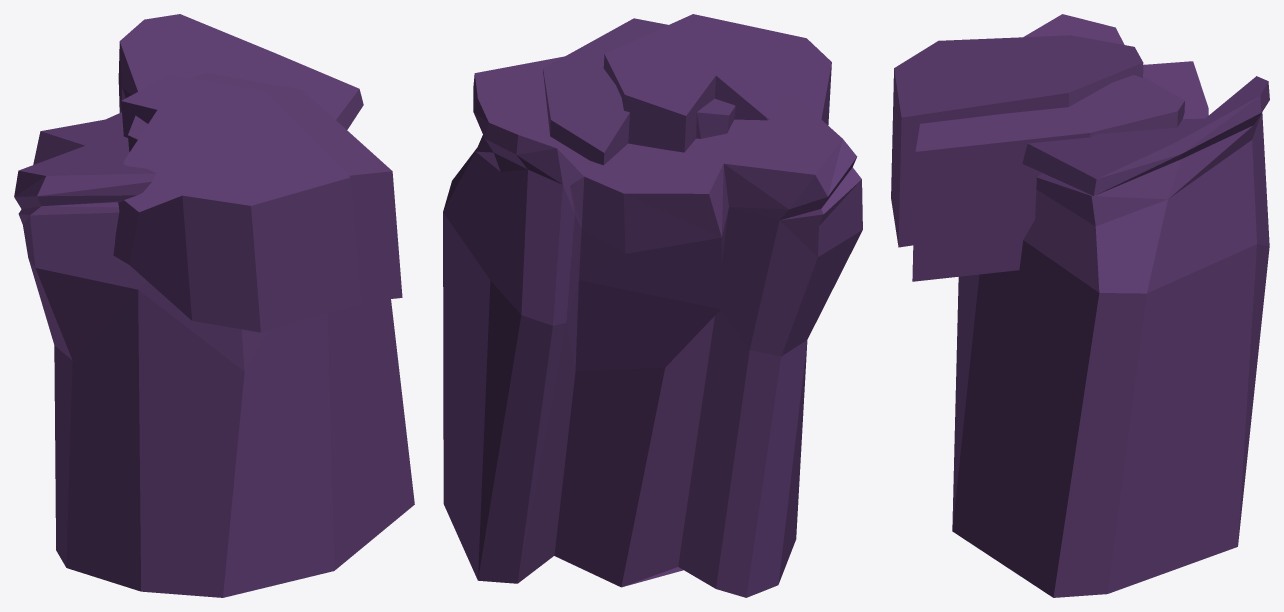
File: Rock_9.fbx
3 views of the same model, side by side, from view 1: azimuth 30°, elevation 25°; view 2: azimuth 150°, elevation 25°; view 3: azimuth 270°, elevation 25° (orthographic). The views are drawn at different scales.
Parts seen in each view (by area): view 1: rock_model.025; view 2: rock_model.025; view 3: rock_model.025.
Boxes of the visible parts, box(x1,y1,x2,y2) form: rock_model.025: box(14, 14, 414, 597); rock_model.025: box(443, 14, 862, 597); rock_model.025: box(891, 14, 1269, 597).
Size of the model in its own units: 312 by 353 by 272.
